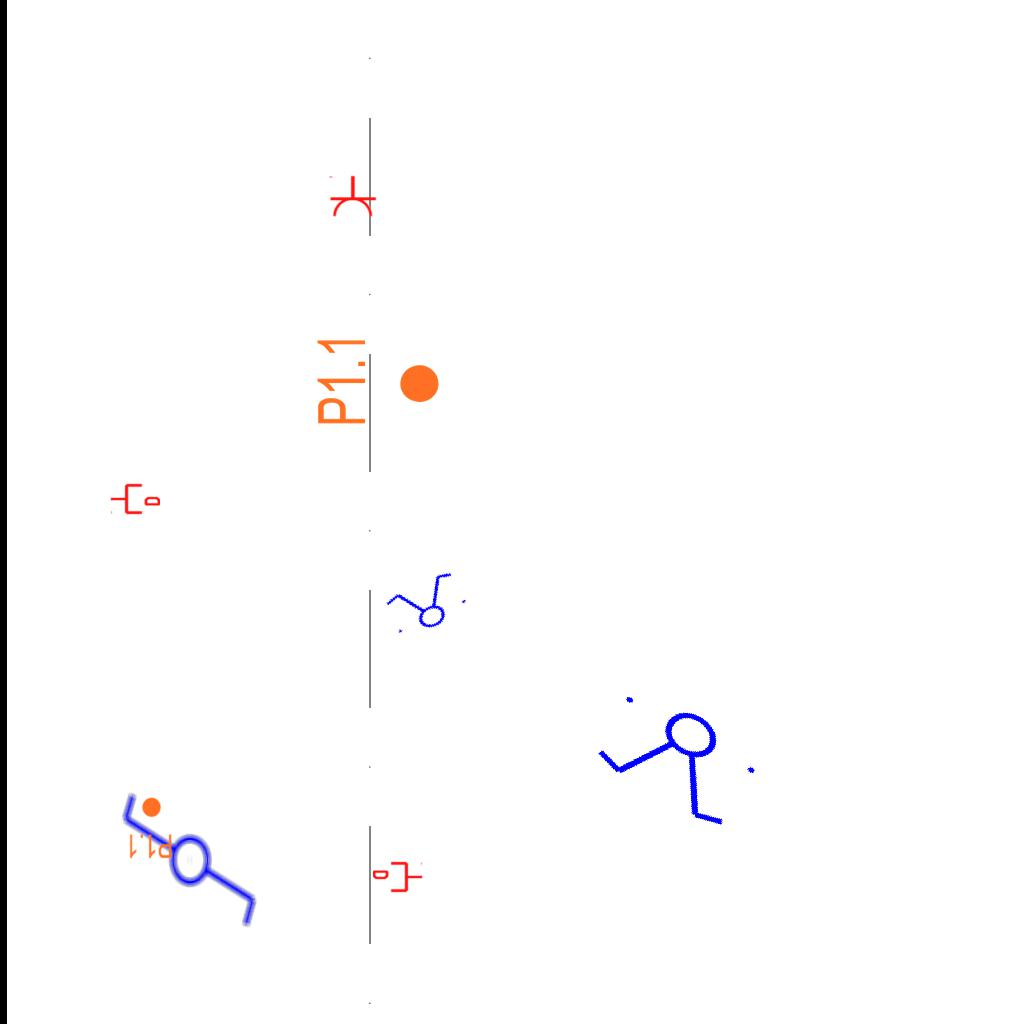Datenanschluss_einfach: (110, 482, 160, 516), (373, 860, 423, 894)
Downlight_LED_Einbauleuchten_Flur: (314, 334, 442, 427), (127, 796, 173, 860)
Schukosteckdose_einfach: (327, 175, 377, 218)
Serienschalter: (582, 674, 776, 842), (377, 565, 475, 645)
Wechselschalter: (116, 790, 260, 947)
